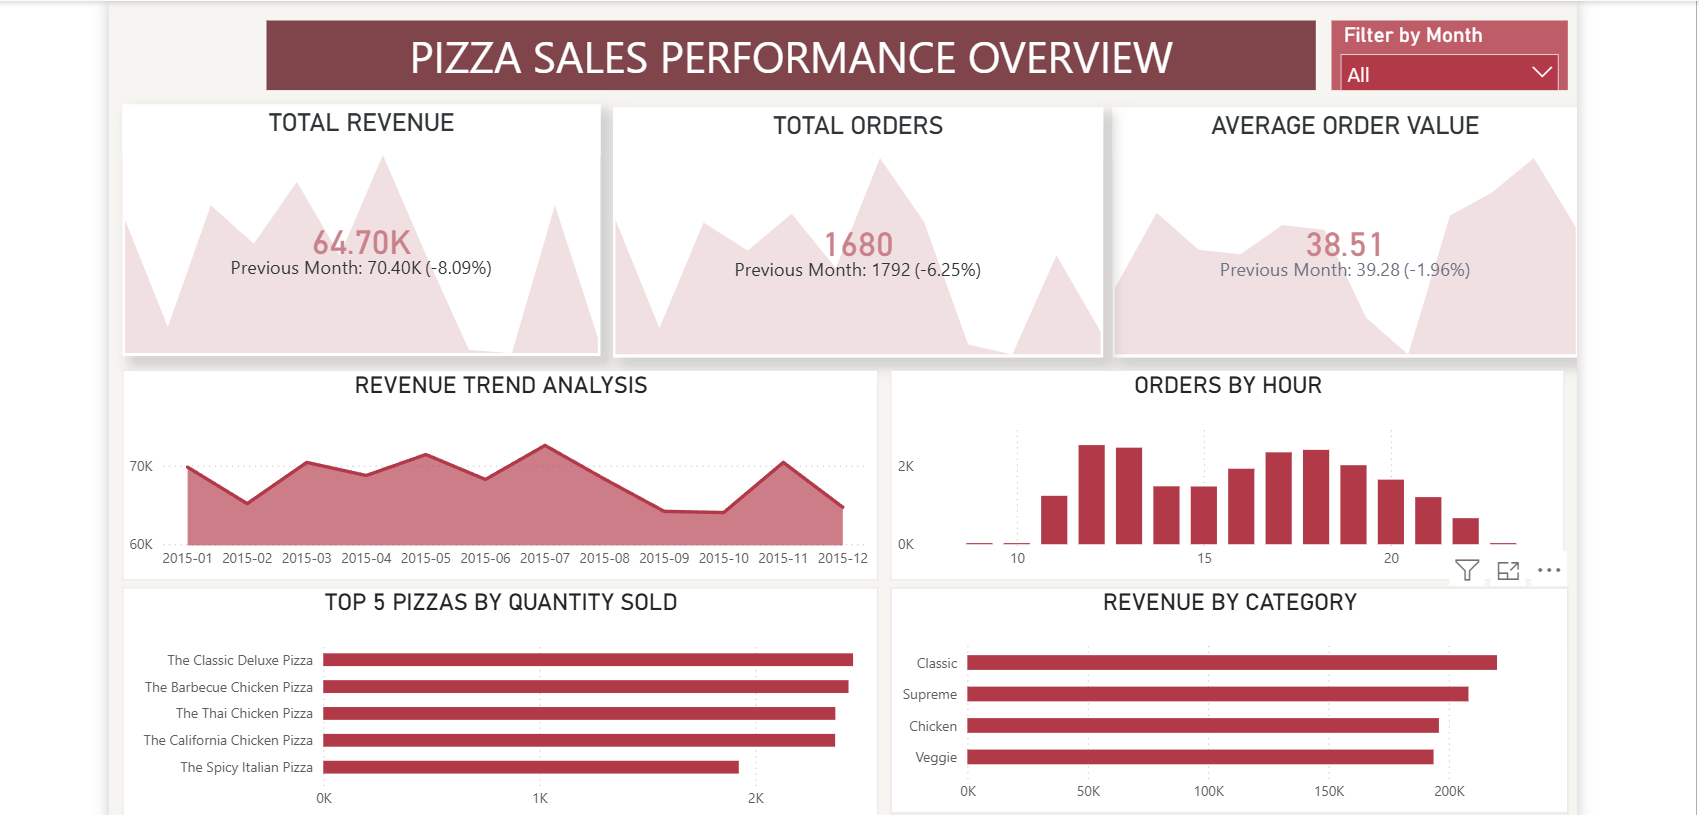

The page's visual inventory and layout, read from the dashboard file:
{"tool":"powerbi","page":{"name":"Performance Overview","canvas":[1280,720],"ordinal":0},"visuals":[{"type":"kpi","title":"AVERAGE ORDER VALUE","fields":{"TrendLine":["dim_date.Year-mon"],"Goal":["orders.AOV prior month"],"Indicator":["orders.average_order_value"]},"box":[875.2,92.4,405.8,218],"z":0},{"type":"kpi","title":"TOTAL REVENUE","fields":{"TrendLine":["dim_date.Year-mon"],"Goal":["orders.revenue_prior_month"],"Indicator":["orders.total_revenue"]},"box":[12.1,90.9,416.4,219.6],"z":1000},{"type":"kpi","title":"TOTAL ORDERS","fields":{"TrendLine":["dim_date.Year-mon"],"Goal":["order_details.order_prior_month"],"Indicator":["orders.total_orders"]},"box":[439.1,92.4,427,218],"z":2000},{"type":"textbox","box":[137.8,16.7,914.6,60.6],"z":6000},{"type":"lineChart","title":"REVENUE TREND ANALYSIS","fields":{"Y":["orders.total_revenue"],"Category":["dim_date.Year-mon"]},"box":[12.1,321,658.7,183.2],"z":7000},{"type":"columnChart","title":"ORDERS BY HOUR","fields":{"Category":["orders.Order_hour"],"Y":["orders.total_orders"]},"box":[681.4,321,587.5,183.2],"z":8000},{"type":"barChart","title":"TOP 5 PIZZAS BY QUANTITY SOLD","fields":{"Category":["pizza_types.name"],"Y":["order_details.total_pizzas_sold"]},"box":[12.1,511.8,658.7,202.9],"z":9000},{"type":"clusteredBarChart","title":" REVENUE BY CATEGORY","fields":{"Category":["pizza_types.category"],"Y":["orders.total_revenue"]},"box":[681.4,511.8,590.5,196.8],"z":10000},{"type":"slicer","title":"FILTER BY CATEGORY","fields":{"Values":["dim_date.Month_name"]},"box":[1066,16.7,205.9,60.6],"z":12000}]}

Visuals, with their boxes on the page's 1280x720 design canvas (x1, y1, x2, y2). These are canvas units, not pixel positions in the 1699x815 screenshot, which may show the page scaled, cropped or inside an application window:
"AVERAGE ORDER VALUE" kpi: box(875, 92, 1281, 310)
"TOTAL REVENUE" kpi: box(12, 91, 428, 310)
"TOTAL ORDERS" kpi: box(439, 92, 866, 310)
textbox: box(138, 17, 1052, 77)
"REVENUE TREND ANALYSIS" lineChart: box(12, 321, 671, 504)
"ORDERS BY HOUR" columnChart: box(681, 321, 1269, 504)
"TOP 5 PIZZAS BY QUANTITY SOLD" barChart: box(12, 512, 671, 715)
" REVENUE BY CATEGORY" clusteredBarChart: box(681, 512, 1272, 709)
"FILTER BY CATEGORY" slicer: box(1066, 17, 1272, 77)
